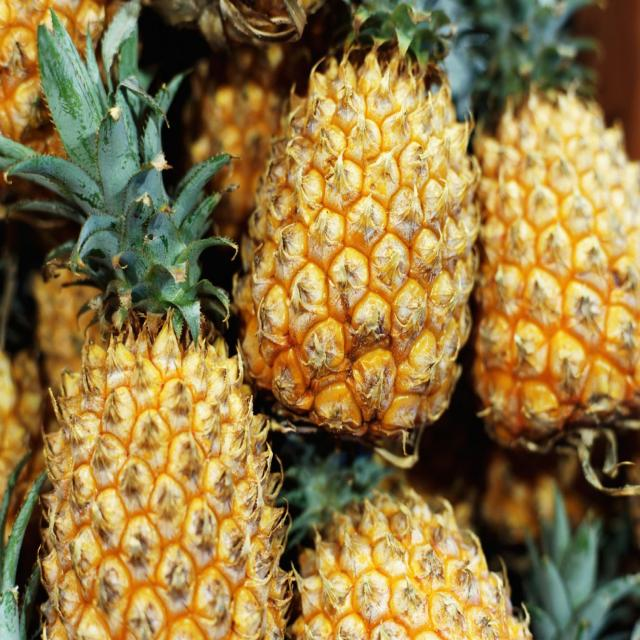pineapple: (26, 262, 280, 640), (245, 41, 474, 450), (475, 93, 640, 477)
